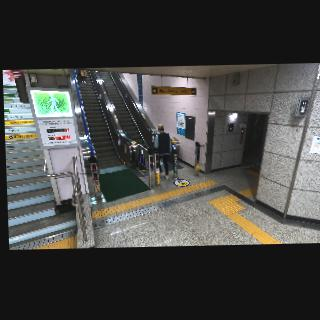normal: (152, 122, 174, 181)
